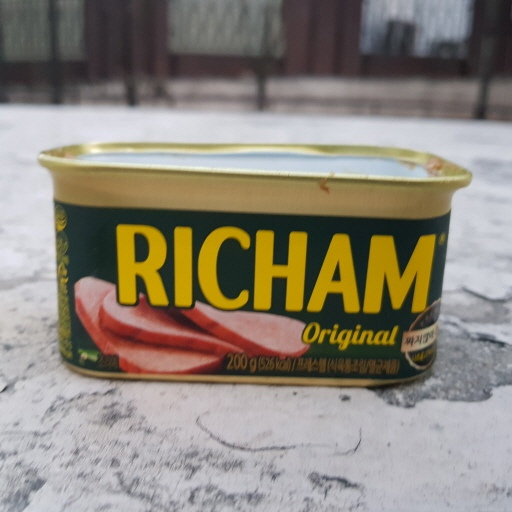Metal_2: (35, 135, 474, 387)
